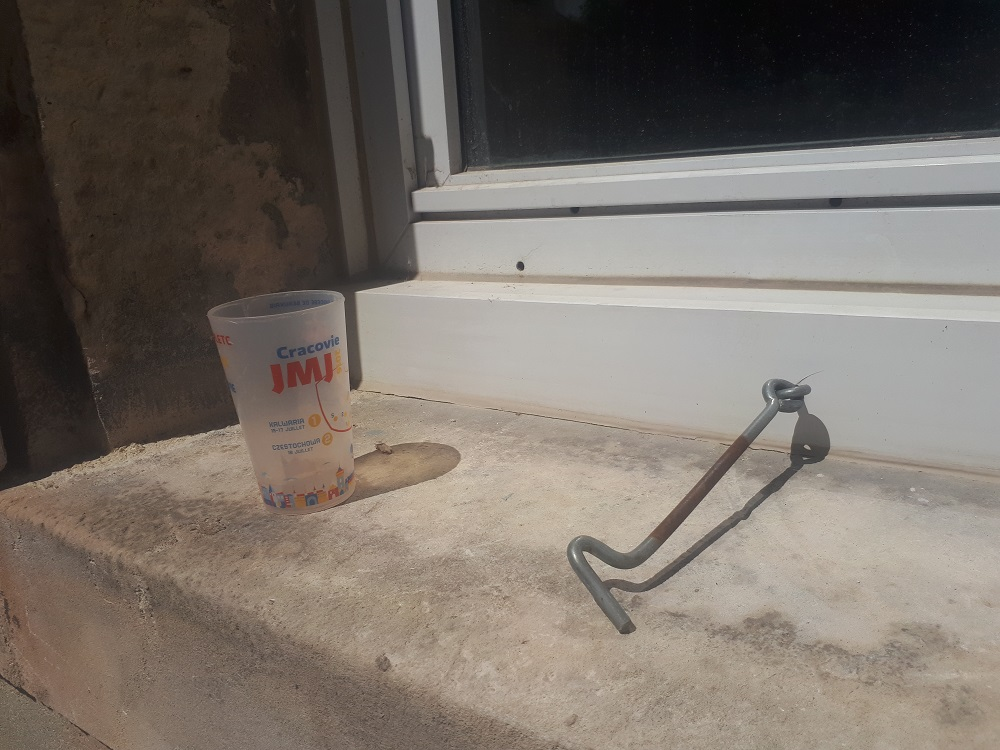ecocup: (205, 288, 358, 518)
